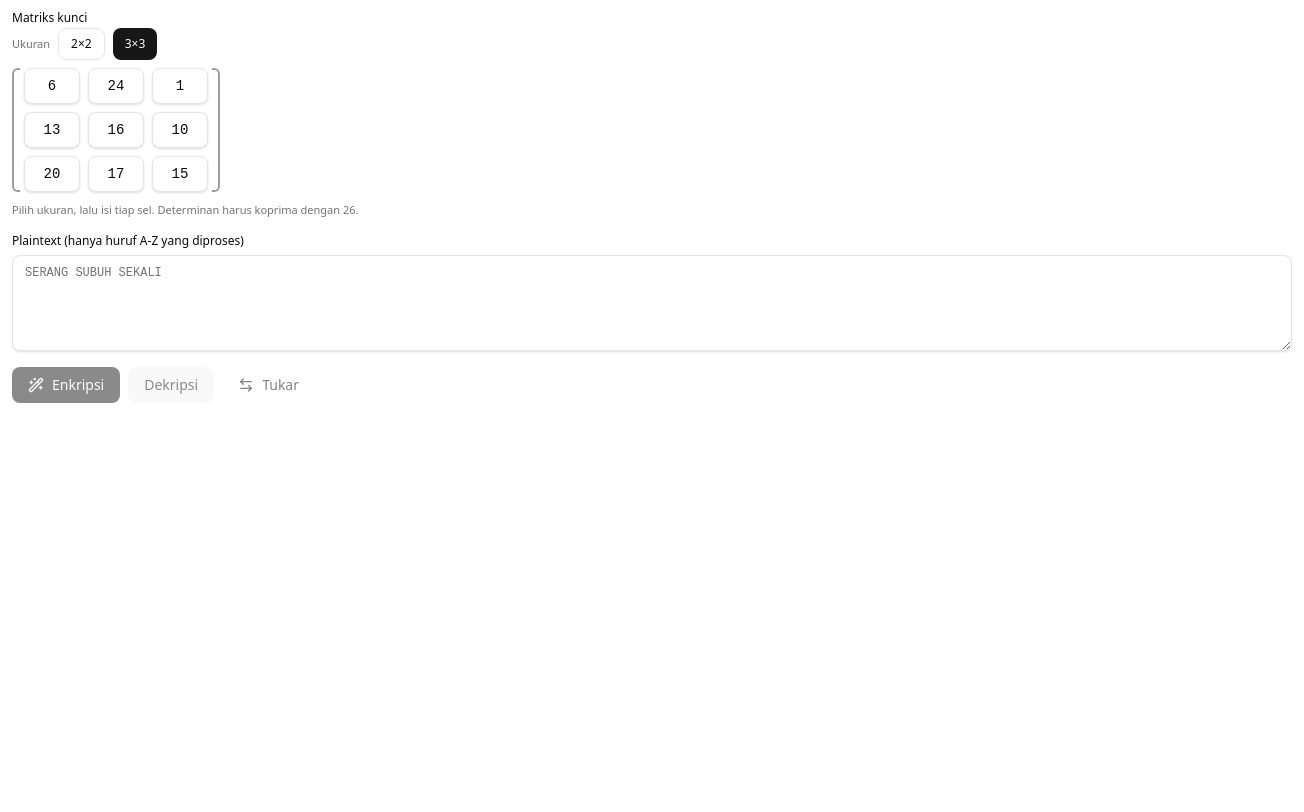
Test: TextPanel — enkripsi/dekripsi teks lewat GUI › Hill: ganti ukuran 2x2 langsung valid (tanpa isi manual) — regresi default singular
Click the button "2×2".
click(81, 44)  # box [58, 28, 105, 60]
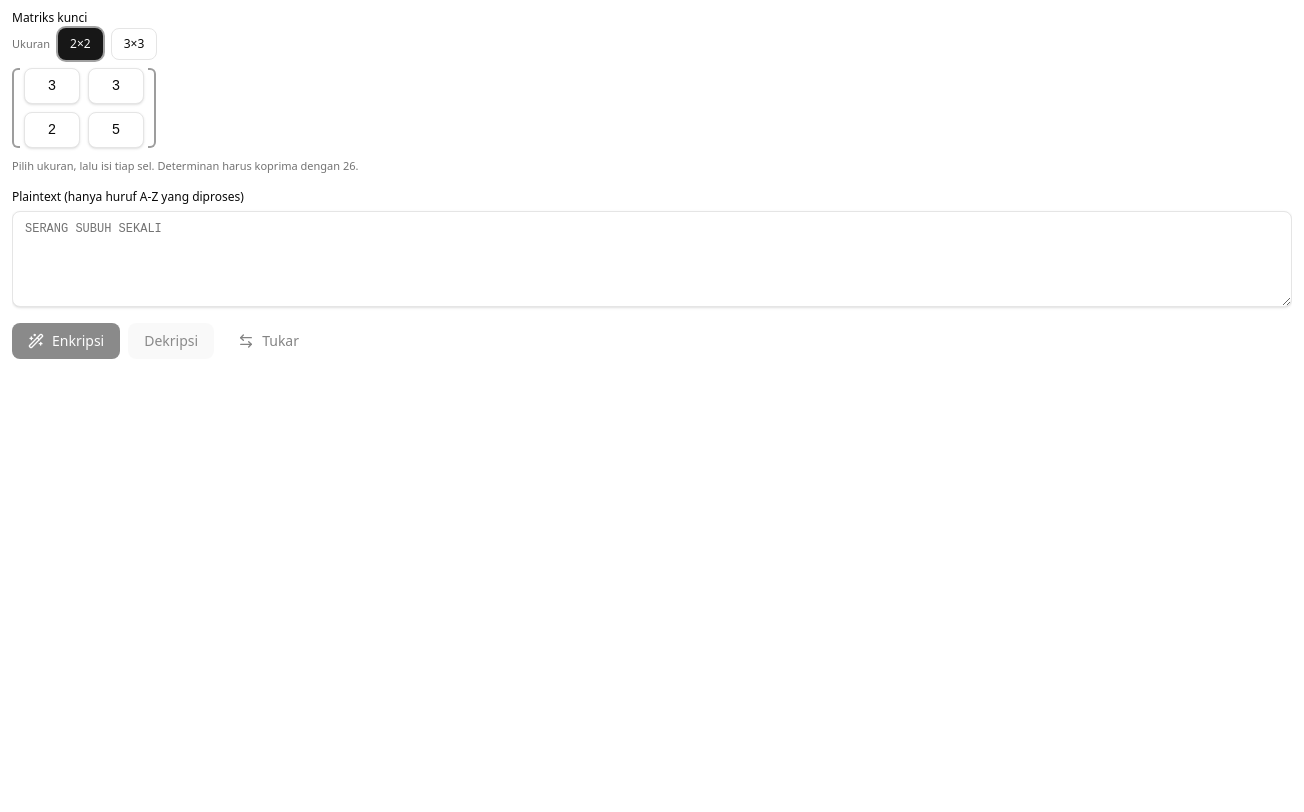
Type "HELP" into the text box labelled "Plaintext (hanya huruf A-Z yang diproses)".
click(652, 258); type("HELP")  # box [12, 210, 1292, 306]
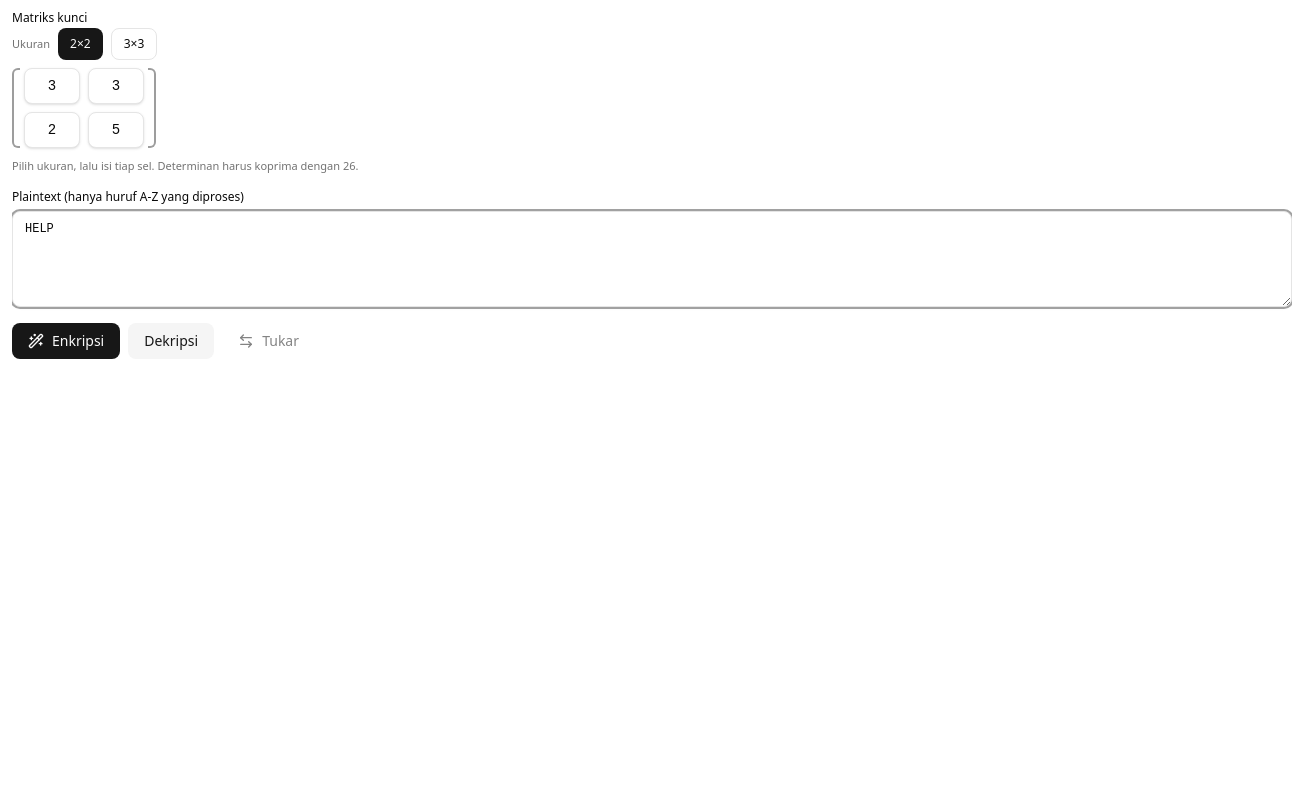
Click the button "Enkripsi".
click(66, 340)  # box [12, 322, 120, 358]
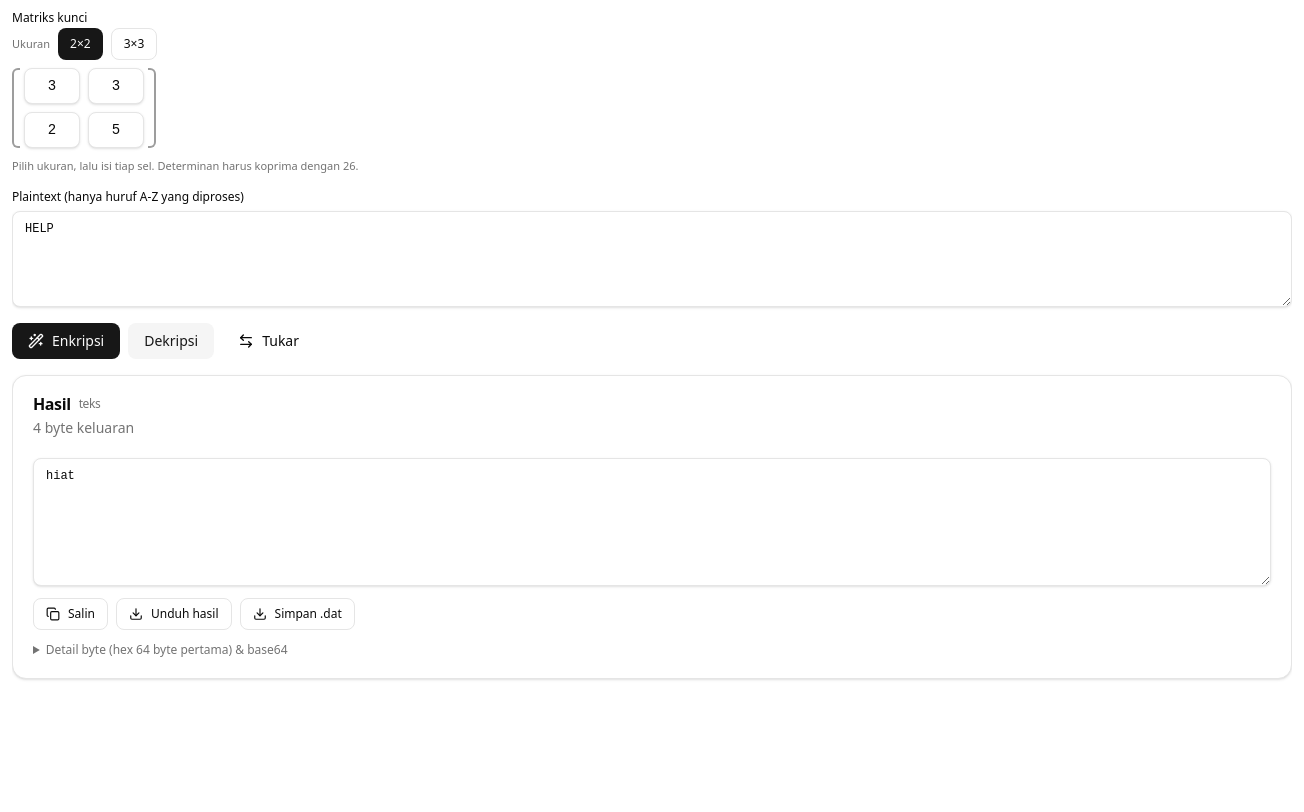
Now the text box with test id "result-output" holds "hiat", box [33, 458, 1271, 586]
